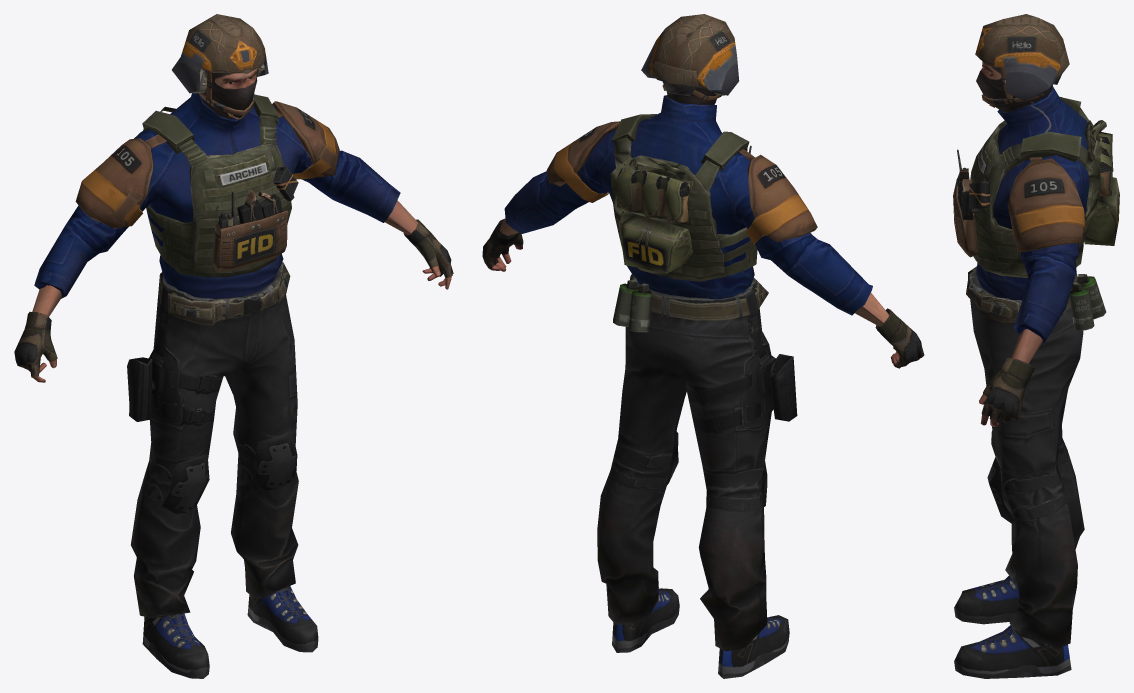
File: archie__standoff_2.glb
3 renders of one model, left to right at view 1: azimuth 30°, elevation 25°; view 2: azimuth 150°, elevation 25°; view 3: azimuth 270°, elevation 25°, orthographic.
Visible parts, largest first — view 1: Object_2; view 2: Object_2; view 3: Object_2.
Boxes of the visible parts, x1,y1,x2,y2 form: Object_2: [14, 14, 453, 678]; Object_2: [482, 14, 924, 678]; Object_2: [953, 14, 1119, 678].
Bounding box in the file's own units: 1.29 × 1.79 × 0.4318.
Materials: 1 (1 with a texture image).
